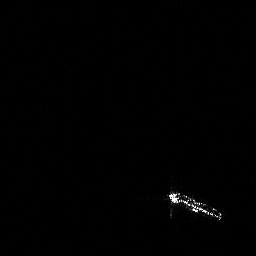ship: (164, 186, 226, 224)
